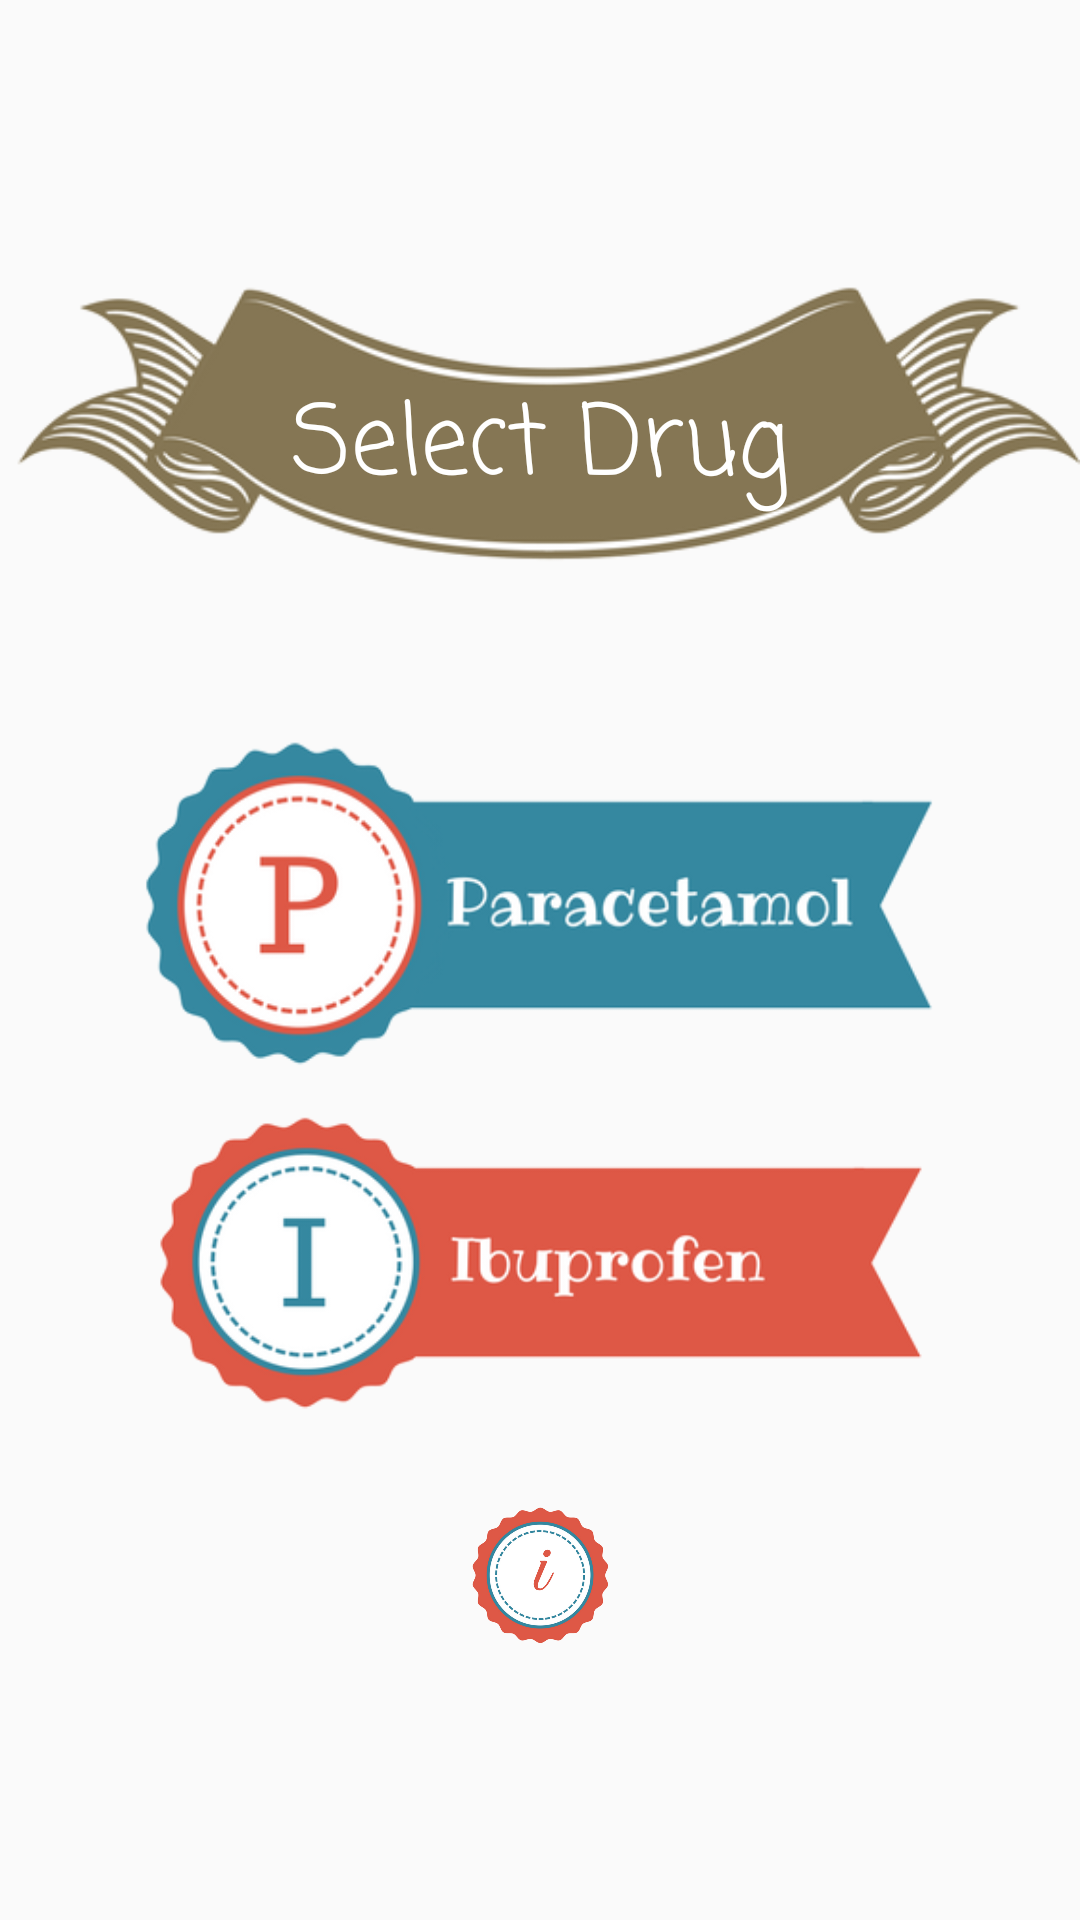

Icon bounding boxes for this 1080 × 1920 phone screenshot, format (x1, y1, x2, y2):
info: (472, 1507, 608, 1643)
